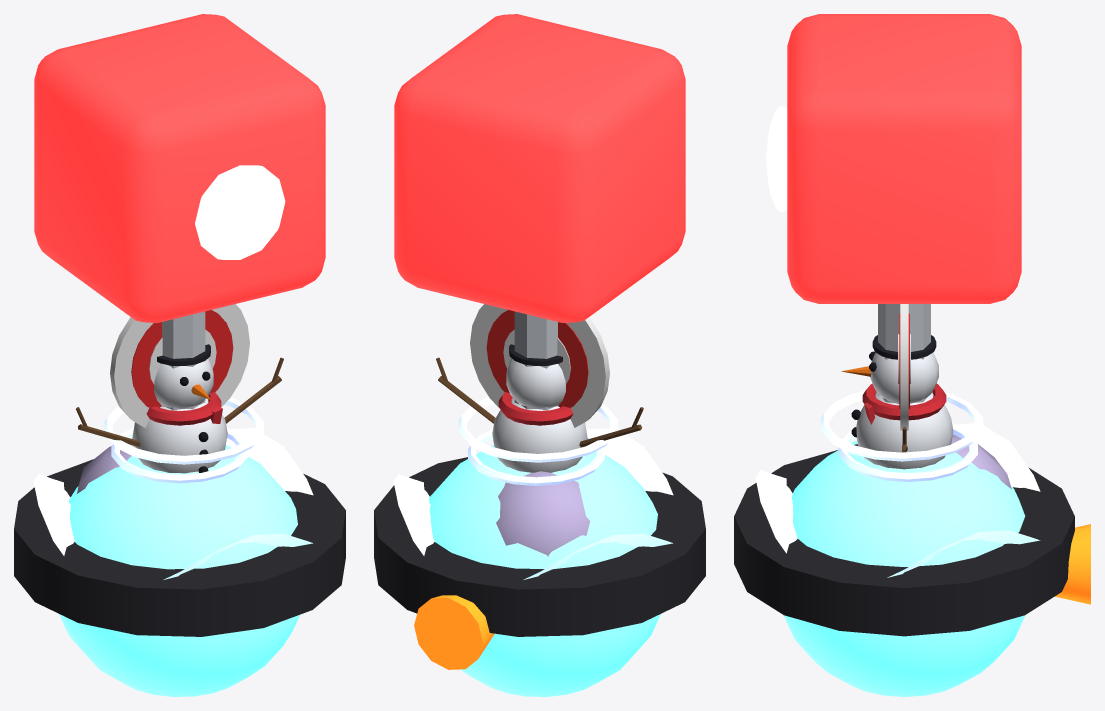
File: items.glb
The picture shows the model from 3 angles, left to right: view 1: azimuth 30°, elevation 25°; view 2: azimuth 150°, elevation 25°; view 3: azimuth 270°, elevation 25°; orthographic projection.
Parts seen in each view (by area): view 1: station_offense, item_shield, snowman, target_board, item_wave, item_whirl, item_fog; view 2: station_offense, item_shield, snowman, target_board, item_fog, item_wave, item_comet, item_whirl; view 3: station_offense, item_shield, snowman, item_wave, item_whirl, item_comet, target_board, item_fog.
Part boxes in pixels (bbox=[...]): station_offense: bbox=[14, 14, 345, 636]; item_shield: bbox=[59, 445, 299, 696]; snowman: bbox=[76, 344, 283, 473]; target_board: bbox=[110, 304, 249, 427]; item_wave: bbox=[33, 428, 313, 579]; item_whirl: bbox=[104, 397, 263, 483]; item_fog: bbox=[77, 444, 133, 493]; station_offense: bbox=[374, 14, 705, 636]; item_shield: bbox=[429, 445, 660, 696]; snowman: bbox=[436, 344, 643, 472]; target_board: bbox=[470, 304, 609, 427]; item_fog: bbox=[496, 471, 590, 556]; item_wave: bbox=[393, 428, 673, 579]; item_comet: bbox=[414, 595, 494, 669]; item_whirl: bbox=[458, 396, 618, 485]; station_offense: bbox=[734, 14, 1074, 636]; item_shield: bbox=[783, 441, 1025, 696]; snowman: bbox=[841, 335, 953, 469]; item_wave: bbox=[755, 423, 1040, 577]; item_whirl: bbox=[820, 391, 983, 481]; item_comet: bbox=[1055, 524, 1090, 604]; target_board: bbox=[898, 304, 910, 430]; item_fog: bbox=[951, 434, 1011, 489].
Size of the model in its own units: 3.2 by 6.55 by 3.35.
